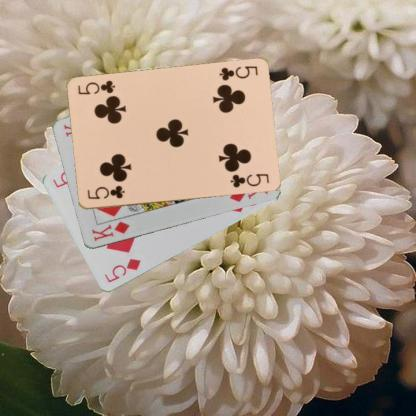5c: (217, 63, 259, 82), (84, 183, 126, 201)
5d: (102, 256, 142, 284)
Kd: (89, 220, 131, 242)
